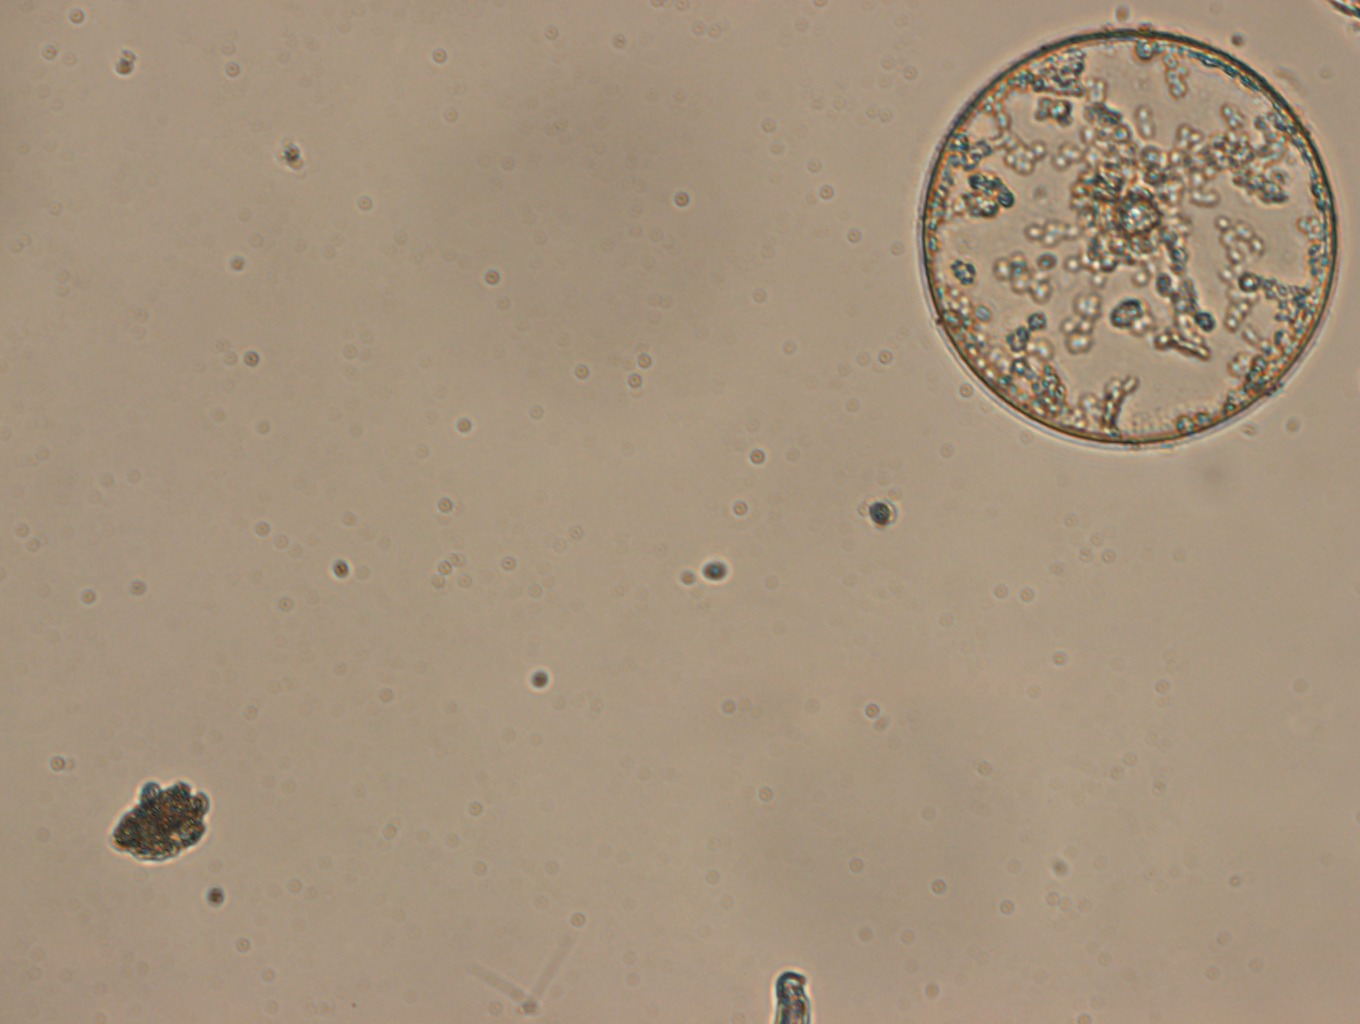coscinodiscus: (914, 20, 1343, 456)
